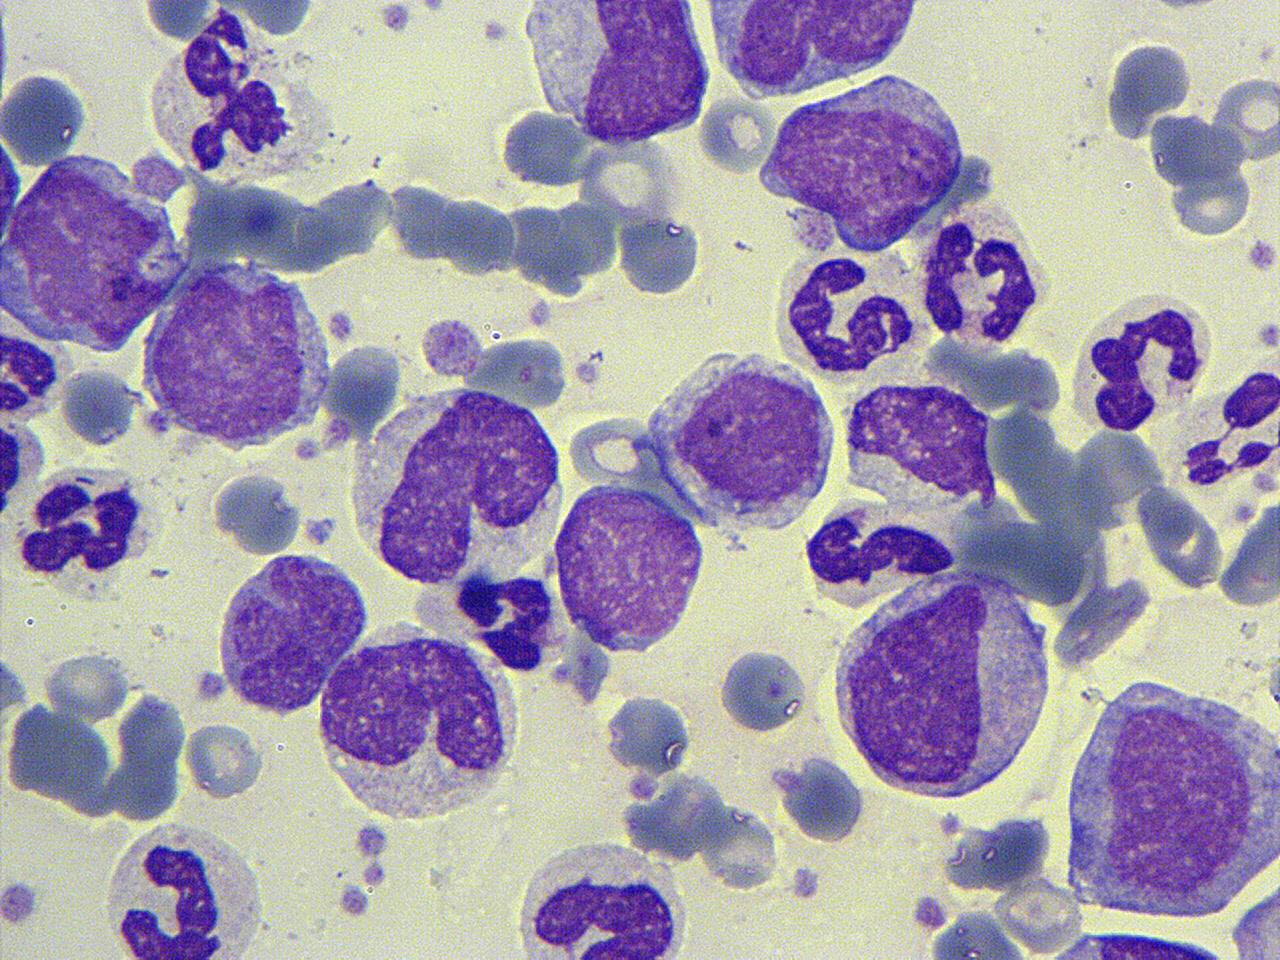Platelets: (418, 315, 489, 381), (0, 874, 40, 930), (910, 890, 950, 932), (0, 0, 15, 111), (354, 819, 389, 860), (337, 880, 372, 918), (1246, 236, 1278, 274), (378, 2, 414, 35), (480, 17, 511, 45), (1254, 318, 1280, 351), (362, 861, 388, 890), (415, 0, 448, 16)
RBC: (111, 686, 188, 822), (1, 67, 92, 168), (717, 643, 810, 736), (211, 468, 307, 556), (616, 205, 702, 300), (566, 410, 664, 492), (696, 91, 779, 179), (439, 190, 518, 281), (183, 718, 267, 800), (42, 648, 132, 724), (1215, 70, 1280, 164), (1228, 861, 1280, 960), (418, 314, 489, 381), (0, 129, 22, 262)
WBC: (1058, 676, 1280, 930), (828, 566, 1057, 806), (347, 380, 573, 590), (314, 618, 523, 827), (755, 67, 973, 259), (0, 145, 192, 358), (644, 340, 842, 539), (138, 256, 336, 452), (140, 3, 324, 188), (519, 0, 714, 150), (548, 480, 710, 657), (212, 546, 372, 718), (4, 682, 186, 828), (100, 816, 270, 960), (1138, 72, 1280, 240), (509, 834, 692, 960), (699, 0, 924, 102), (841, 377, 998, 518), (1071, 286, 1217, 436), (914, 198, 1054, 351), (4, 464, 159, 598), (775, 250, 921, 389), (803, 494, 957, 613), (108, 685, 189, 823), (1102, 34, 1196, 146), (772, 751, 870, 847), (1, 67, 92, 168), (616, 201, 704, 302), (716, 642, 808, 738), (1008, 924, 1255, 959), (211, 468, 304, 558), (603, 690, 696, 780), (1218, 486, 1280, 614), (62, 361, 143, 451), (0, 323, 65, 429), (1228, 874, 1280, 960), (203, 0, 322, 36)
